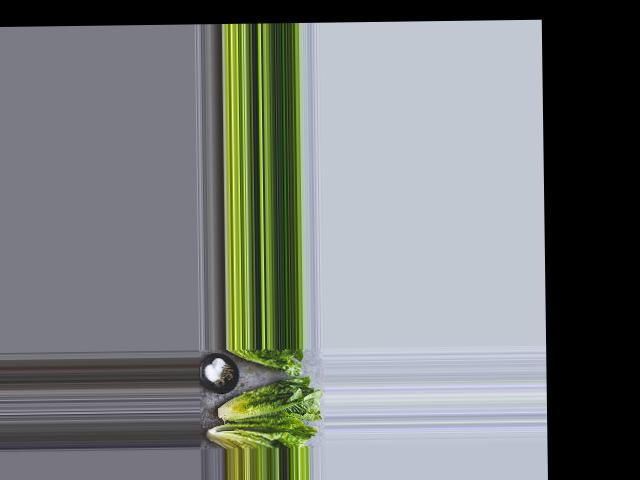lettuce: (199, 418, 309, 448)
